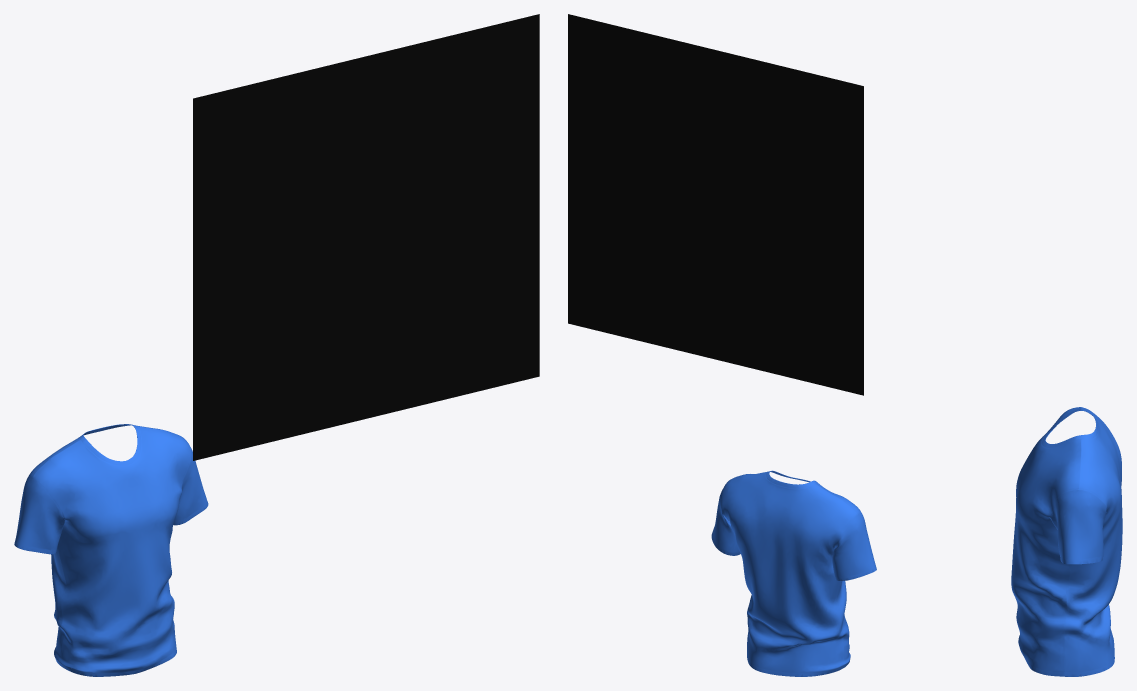
The model's file is design-1762767506990-558371012.glb.
The picture shows the model from 3 angles, left to right: view 1: azimuth 30°, elevation 25°; view 2: azimuth 150°, elevation 25°; view 3: azimuth 270°, elevation 25°; orthographic projection. The views are drawn at different scales.
Size of the model in its own units: 2.55 by 3.4 by 1.05.
